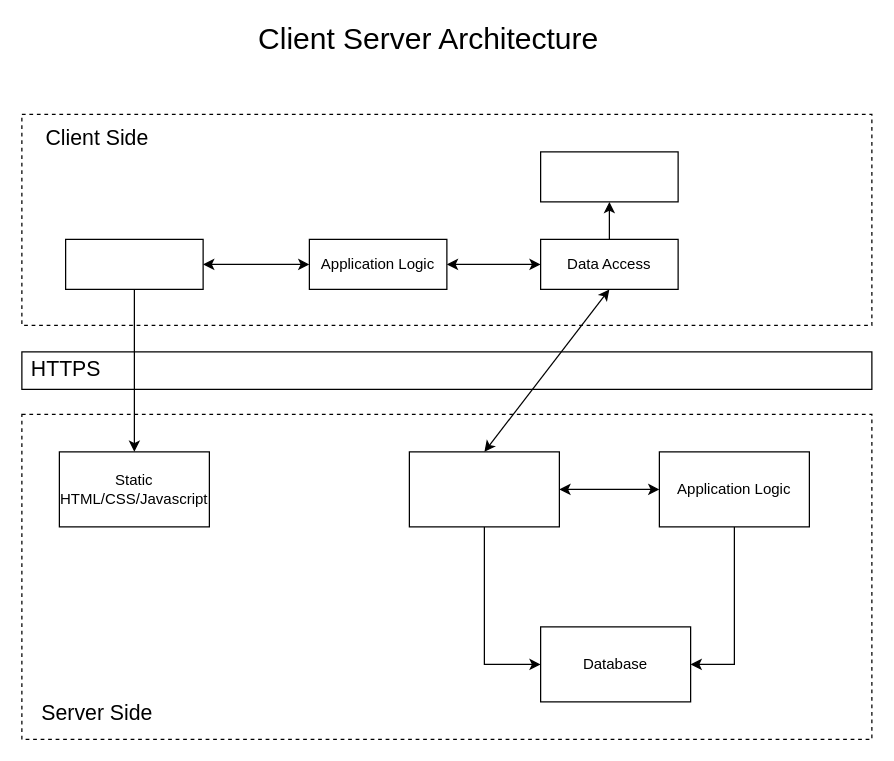
Some shapes in this 894 by 761 pixel diagram are drawn without their labels. The centre of each missing label's shape, as x and y in pixels:
"Local Storage" belongs at point 608,176.
"REST Endpoints" belongs at point 483,489.
"User Interface" belongs at point 133,263.
